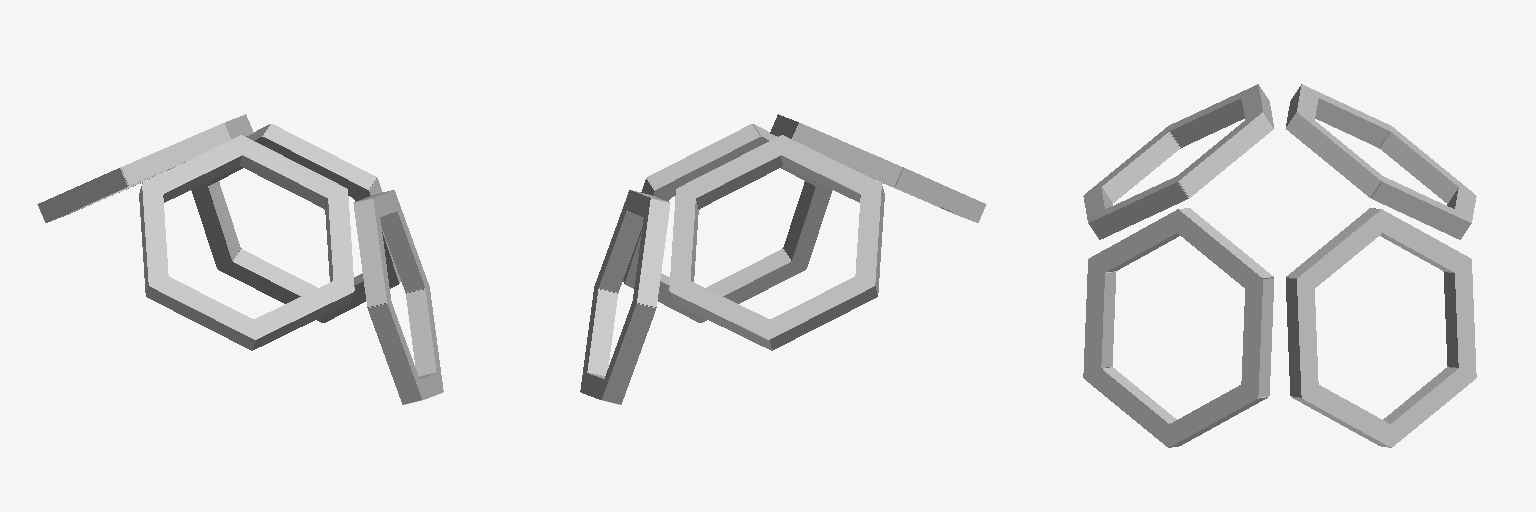
File: triggers.obj
3 views of the same model, side by side, from view 1: azimuth 30°, elevation 25°; view 2: azimuth 150°, elevation 25°; view 3: azimuth 270°, elevation 25° (orthographic).
Visible parts, largest first — view 1: triggers; view 2: triggers; view 3: triggers.
Boxes of the visible parts, <box> form: triggers: <box>37,114,443,404</box>; triggers: <box>580,114,986,404</box>; triggers: <box>1083,84,1476,447</box>.
Bounding box in the file's own units: 1.8 × 1.41 × 1.89.